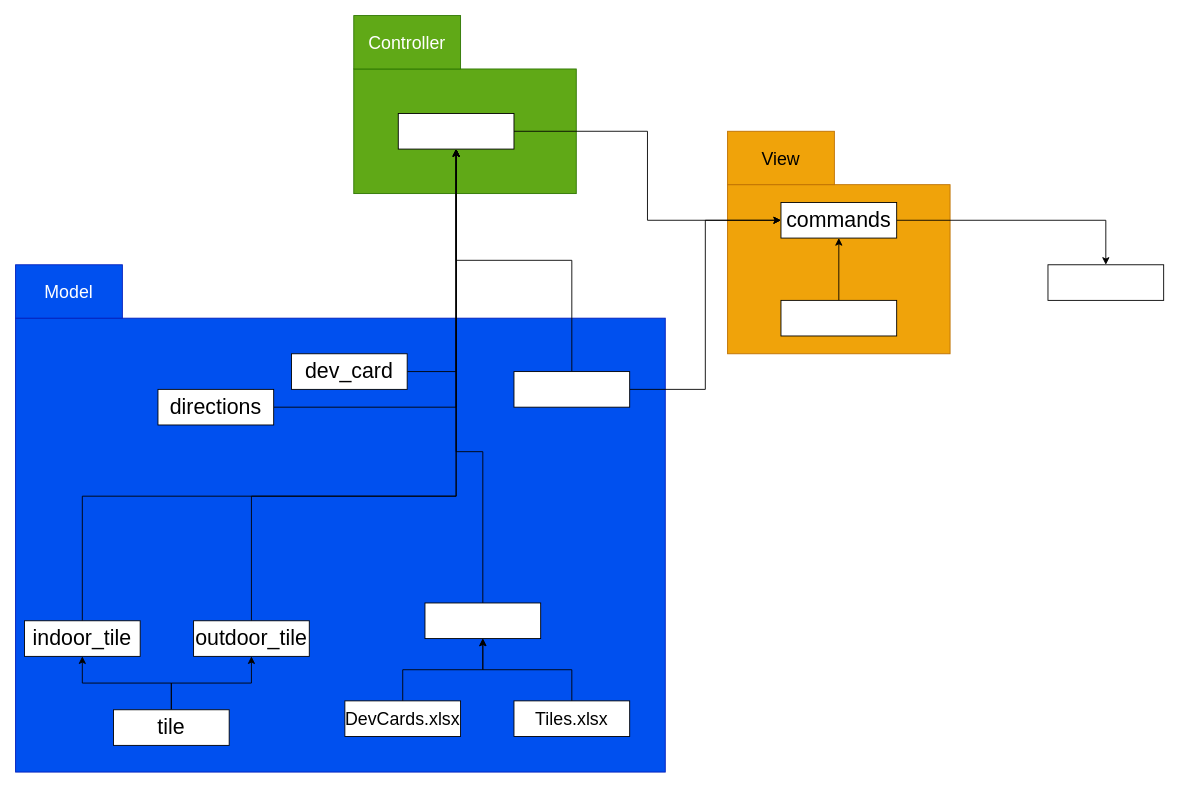
Some shapes in this 1179 by 788 pixel diagram are drawn without their labels. Here are the shapes that lost their labels. From the top down, the centre of each, then its label:
At point 455,131: "game".
At point 1105,282: "main".
At point 838,317: "graph".
At point 571,389: "player".
At point 482,620: "load".
